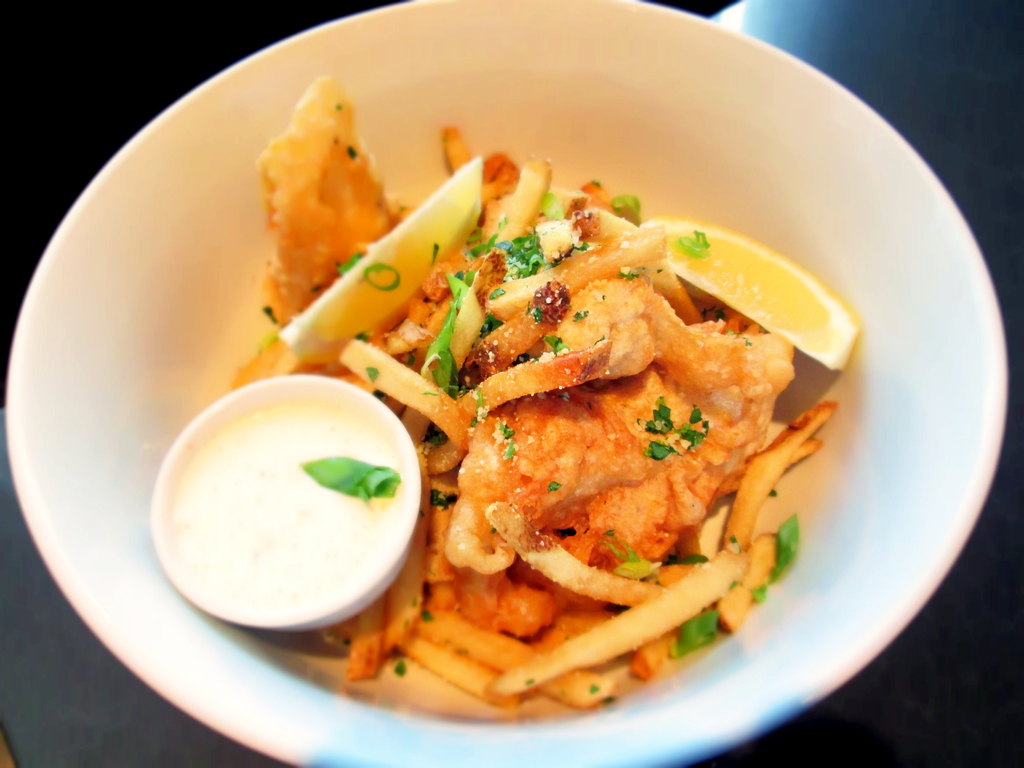French fries: (221, 112, 840, 735)
